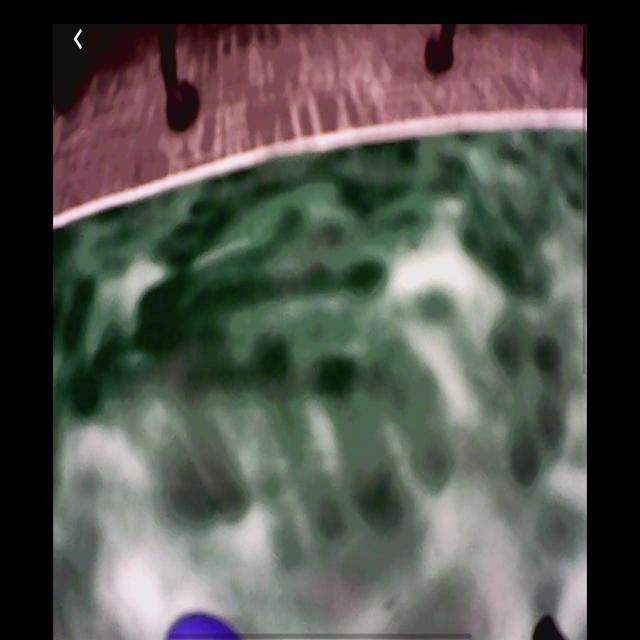ball: (167, 608, 239, 640)
